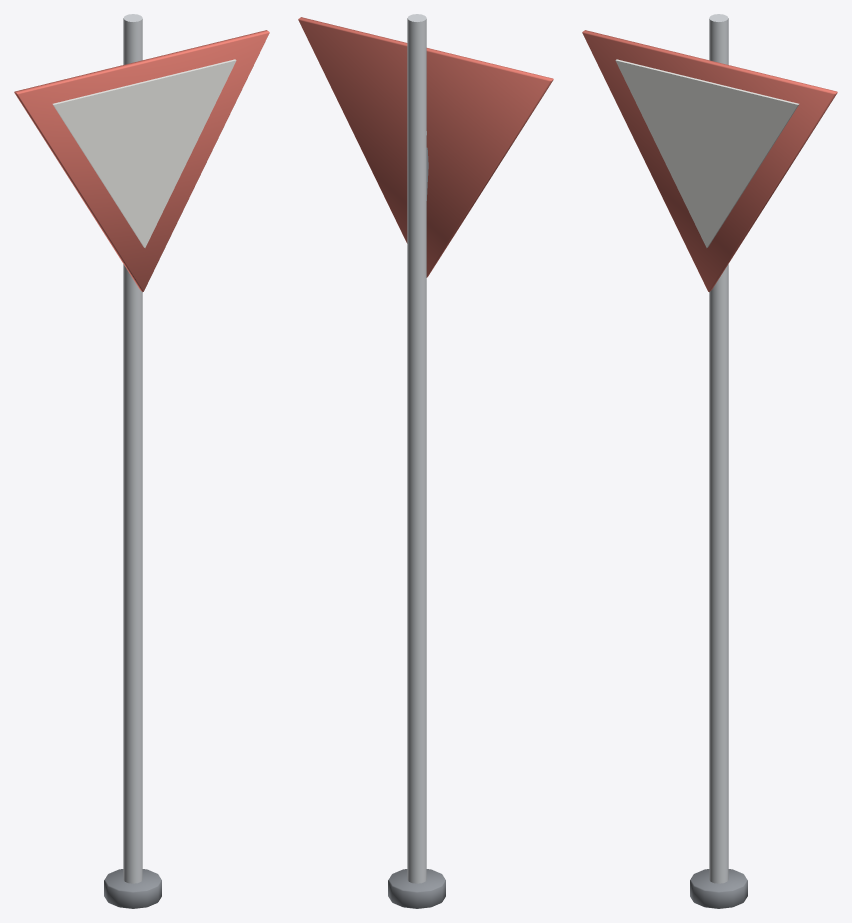
File: Sign_Yield.fbx
3 views of the same model, side by side, from view 1: azimuth 30°, elevation 25°; view 2: azimuth 150°, elevation 25°; view 3: azimuth 330°, elevation 25° (orthographic).
Parts seen in each view (by area): view 1: LOD0; view 2: LOD0; view 3: LOD0.
Part boxes in pixels (<box>): LOD0: <box>14,14,269,908</box>; LOD0: <box>298,14,553,908</box>; LOD0: <box>582,14,837,908</box>.
Size of what is drawn, in the model's own units: 90.7 by 301 by 18.
